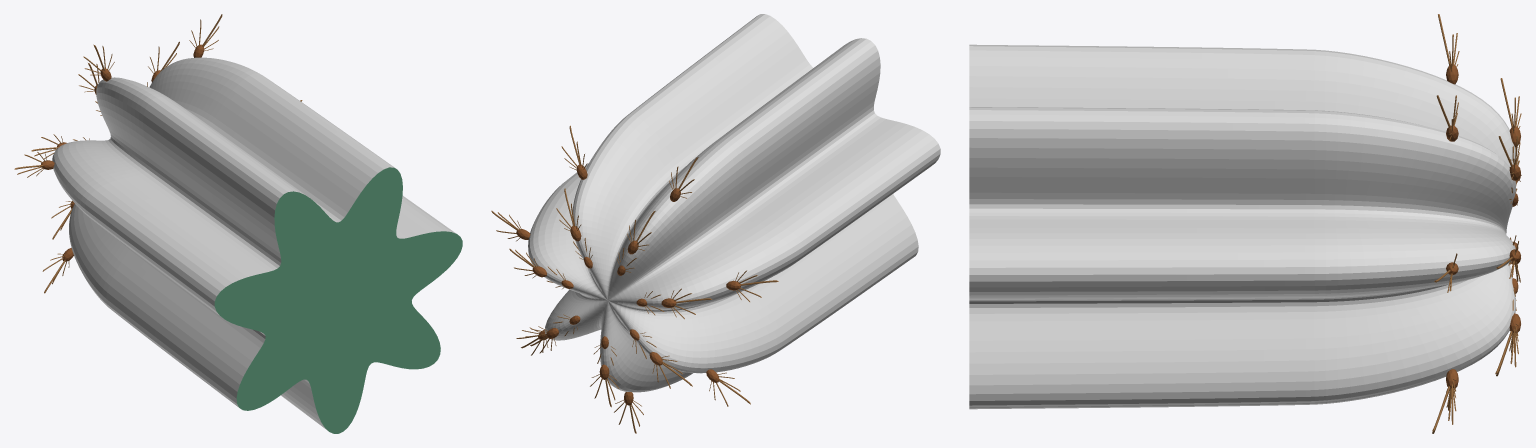
The model's file is frame-024.glb.
3 views of the same model, side by side, from view 1: azimuth 30°, elevation 25°; view 2: azimuth 150°, elevation 25°; view 3: azimuth 270°, elevation 25° (orthographic). The views are drawn at different scales.
Parts seen in each view (by area): view 1: WACHUMA_Pachanoi_Frame_024; view 2: WACHUMA_Pachanoi_Frame_024; view 3: WACHUMA_Pachanoi_Frame_024.
Boxes of the visible parts, x1,y1,x2,y2 form: WACHUMA_Pachanoi_Frame_024: [14, 14, 462, 433]; WACHUMA_Pachanoi_Frame_024: [491, 14, 940, 433]; WACHUMA_Pachanoi_Frame_024: [969, 14, 1521, 433].
Size of the model in its own units: 0.9793 by 0.9538 by 1.26.
